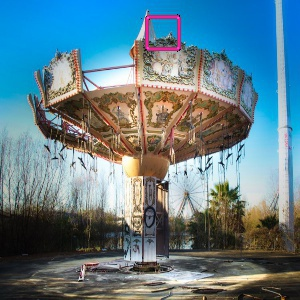square: (144, 14, 181, 52)
